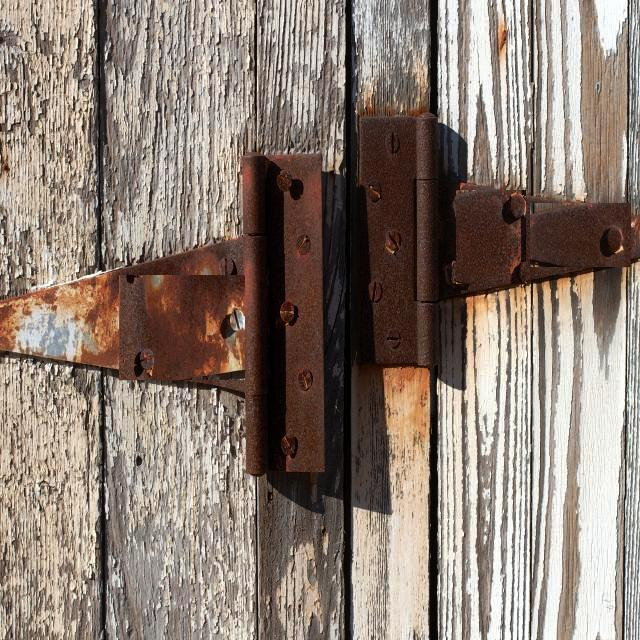Corrosion: (242, 153, 326, 476), (442, 184, 640, 298), (354, 113, 441, 368), (267, 154, 324, 473), (358, 117, 419, 365), (120, 276, 210, 380), (165, 245, 244, 316), (119, 273, 212, 330), (418, 180, 439, 302), (384, 230, 402, 256)
